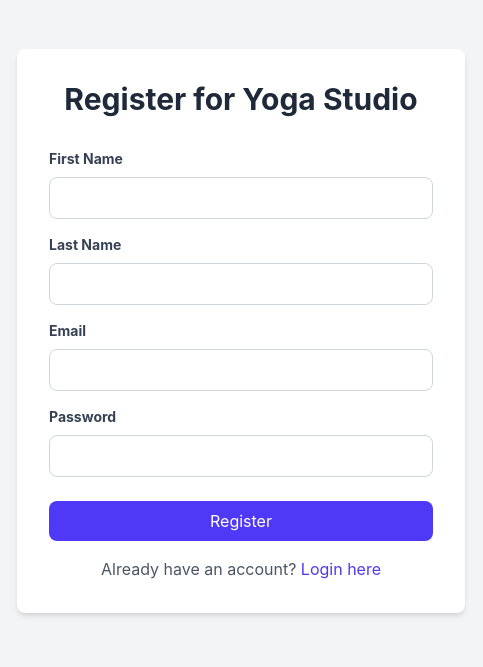
Test: Register Page › should display error on registration failure
Type "Jane" into the field labelled "First Name".
click(241, 198); type("Jane")  # box [49, 177, 433, 219]
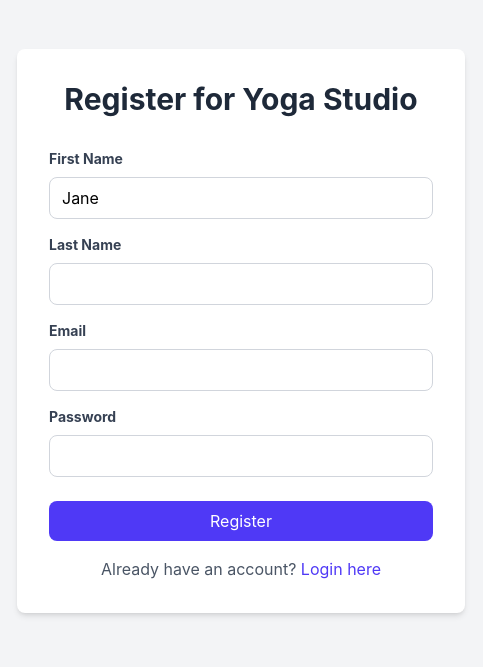
Type "Doe" into the field labelled "Last Name".
click(241, 284); type("Doe")  # box [49, 263, 433, 305]
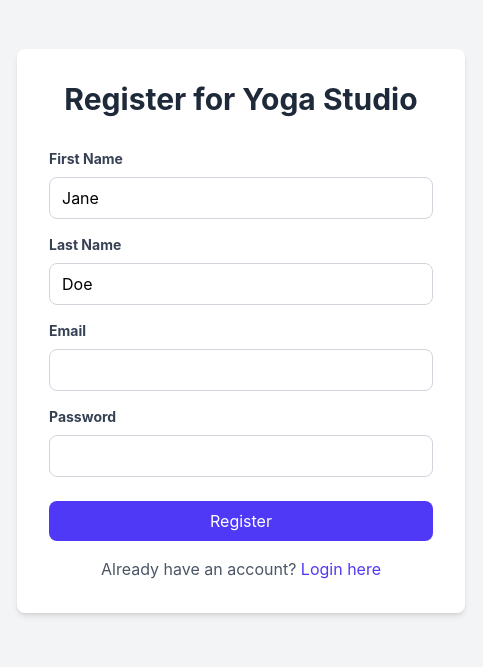
Type "existing@test.com" into the field labelled "Email".
click(241, 370); type("existing@test.com")  # box [49, 349, 433, 391]
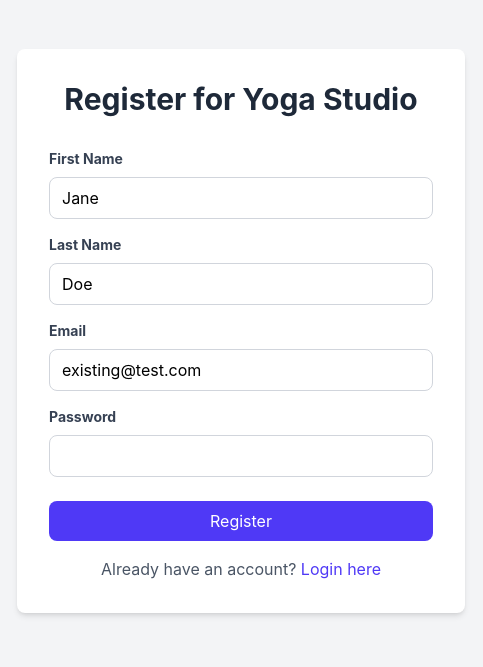
Type "password123" into the password field labelled "Password".
click(241, 456); type("password123")  # box [49, 435, 433, 477]
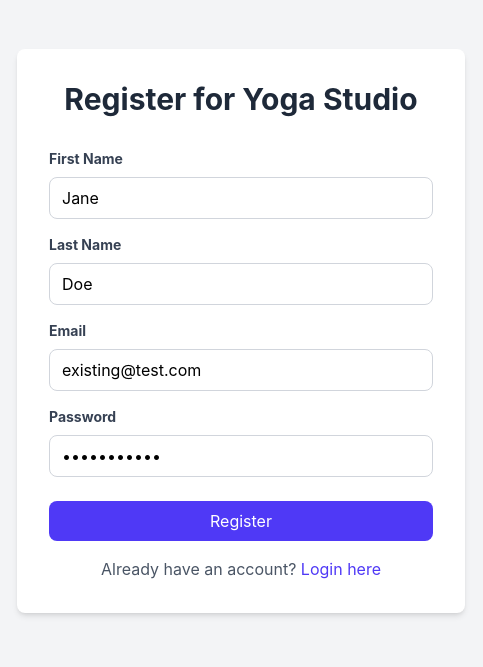
Click the button "Register".
click(241, 521)  # box [49, 501, 433, 541]
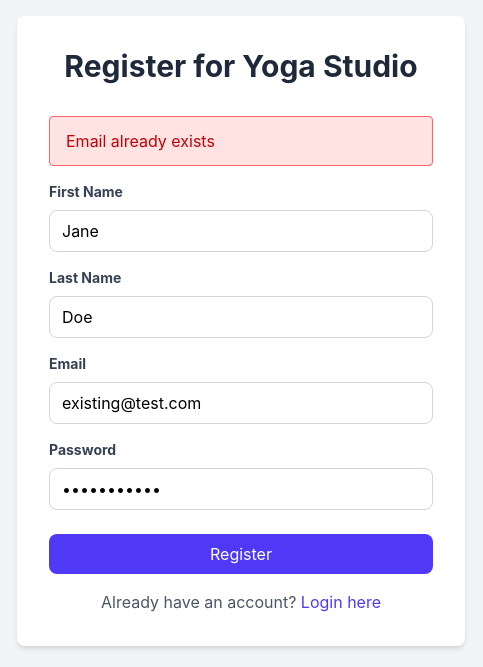
Result: the text "Email already exists" is shown at [49, 116, 433, 166]
